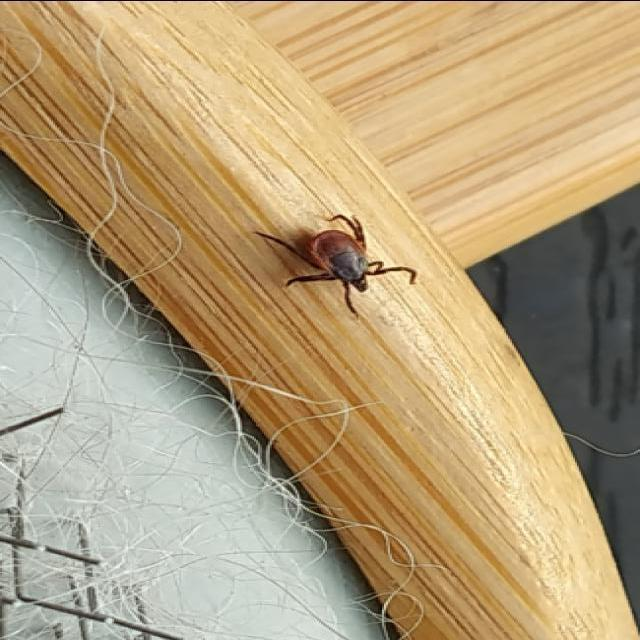Ixodes Ricinus-F: (256, 214, 419, 302)
